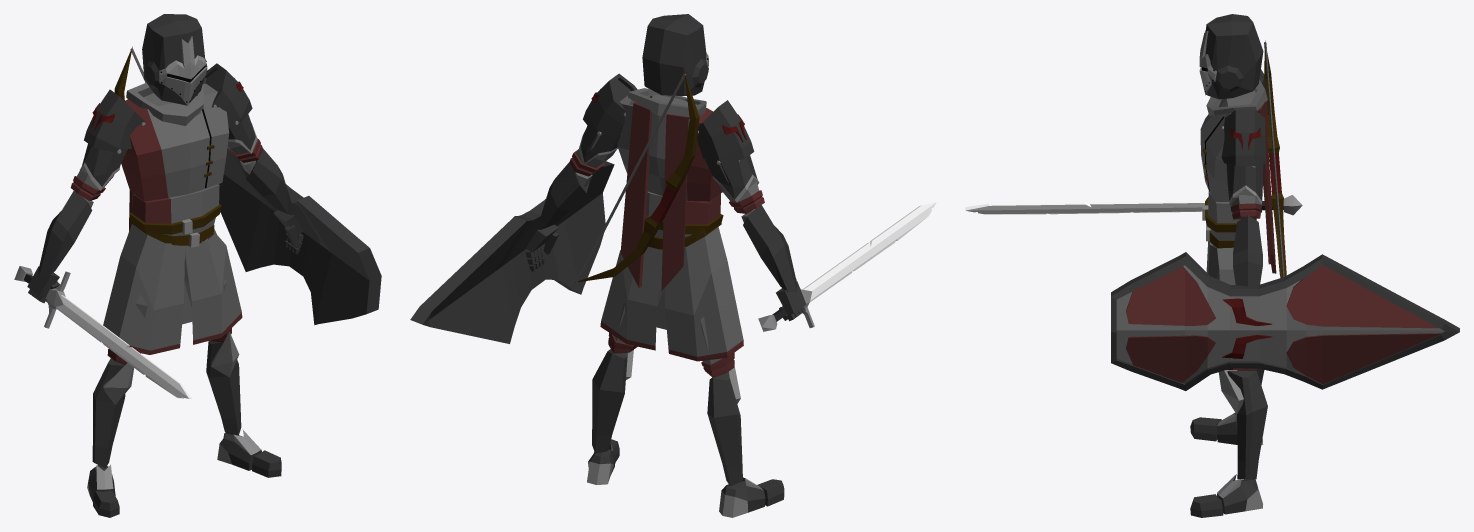
File: TempChamp.fbx
3 renders of one model, left to right at view 1: azimuth 30°, elevation 25°; view 2: azimuth 150°, elevation 25°; view 3: azimuth 270°, elevation 25°, orthographic. The views are drawn at different scales.
Parts seen in each view (by area): view 1: polySurface125, polySurface79, pCube32, pCube33, polySurface116, helmet:dont_worry:Colosseium_Guy:polySurface59, sword:TemplarShortSword:pCube1, polySurface80, polySurface113, polySurface115, polySurface112, pCube14 (+9 smaller); view 2: polySurface125, pCube32, helmet:dont_worry:Colosseium_Guy:polySurface59, pCube33, polySurface116, polySurface79, polySurface115, pCube44, pCube45, polySurface113, sword:TemplarShortSword:pCube1, polySurface112 (+9 smaller); view 3: polySurface125, helmet:dont_worry:Colosseium_Guy:polySurface59, polySurface115, polySurface112, sword:TemplarShortSword:pCube1, polySurface79, pCube13, pCube50, polySurface76, polySurface80, pCube44, pCube33 (+6 smaller).
Part boxes in pixels (x1,y1,x2,y2): polySurface125: [218, 148, 381, 325]; polySurface79: [121, 83, 229, 201]; pCube32: [103, 224, 184, 354]; pCube33: [182, 232, 242, 344]; polySurface116: [70, 89, 145, 201]; helmet:dont_worry:Colosseium_Guy:polySurface59: [142, 14, 205, 105]; sword:TemplarShortSword:pCube1: [14, 266, 191, 398]; polySurface80: [129, 184, 221, 241]; polySurface113: [92, 358, 133, 468]; polySurface115: [203, 63, 262, 162]; polySurface112: [206, 331, 241, 435]; pCube14: [38, 189, 92, 276]; polySurface125: [410, 161, 614, 343]; pCube32: [664, 227, 743, 361]; helmet:dont_worry:Colosseium_Guy:polySurface59: [642, 14, 708, 95]; pCube33: [600, 246, 666, 350]; polySurface116: [697, 100, 764, 213]; polySurface79: [617, 94, 722, 201]; polySurface115: [569, 73, 637, 176]; pCube44: [620, 102, 651, 287]; pCube45: [661, 114, 689, 291]; polySurface113: [707, 365, 742, 486]; sword:TemplarShortSword:pCube1: [758, 202, 936, 331]; polySurface112: [592, 349, 633, 453]; polySurface125: [1111, 252, 1459, 390]; helmet:dont_worry:Colosseium_Guy:polySurface59: [1205, 14, 1263, 99]; polySurface115: [1221, 109, 1265, 219]; polySurface112: [1218, 370, 1267, 479]; sword:TemplarShortSword:pCube1: [965, 195, 1302, 215]; polySurface79: [1200, 90, 1268, 201]; pCube13: [1233, 215, 1262, 286]; pCube50: [1264, 40, 1286, 277]; polySurface76: [1217, 474, 1262, 514]; polySurface80: [1205, 191, 1256, 246]; pCube44: [1257, 101, 1276, 273]; pCube33: [1207, 242, 1235, 284].
Size of the model in its own units: 4.32 by 6.81 by 6.73.
